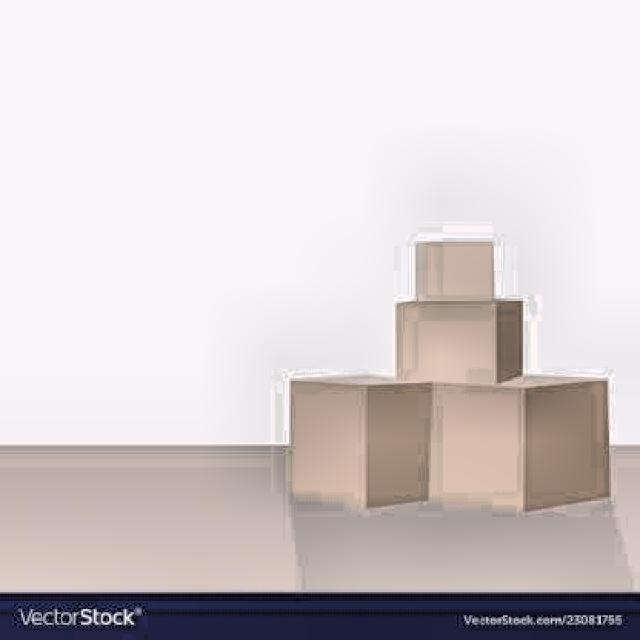Cardbox: (430, 372, 615, 514), (390, 232, 522, 384), (290, 381, 436, 505), (413, 240, 496, 302)
